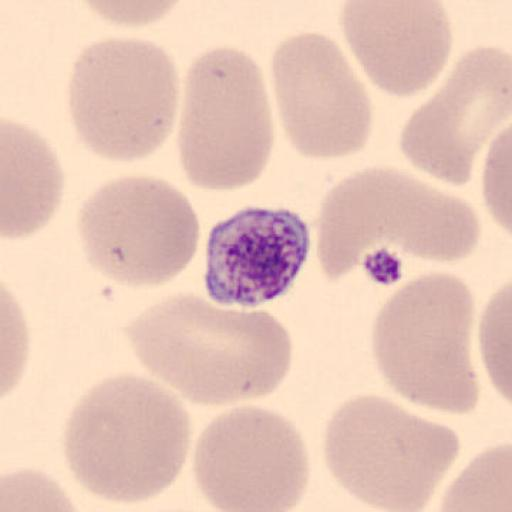Platelet: (201, 204, 314, 308)
RBC: (124, 290, 296, 407), (314, 164, 482, 280), (60, 370, 193, 506), (319, 392, 463, 512), (368, 269, 476, 418), (401, 44, 512, 187), (65, 34, 181, 166), (72, 173, 202, 288), (178, 44, 273, 192), (269, 30, 374, 160), (192, 403, 311, 512), (338, 0, 454, 99), (368, 164, 482, 264), (315, 166, 399, 280), (2, 117, 66, 240), (434, 440, 512, 512), (478, 279, 512, 408), (480, 122, 512, 239), (2, 467, 83, 512), (72, 0, 188, 30), (0, 286, 30, 401)
